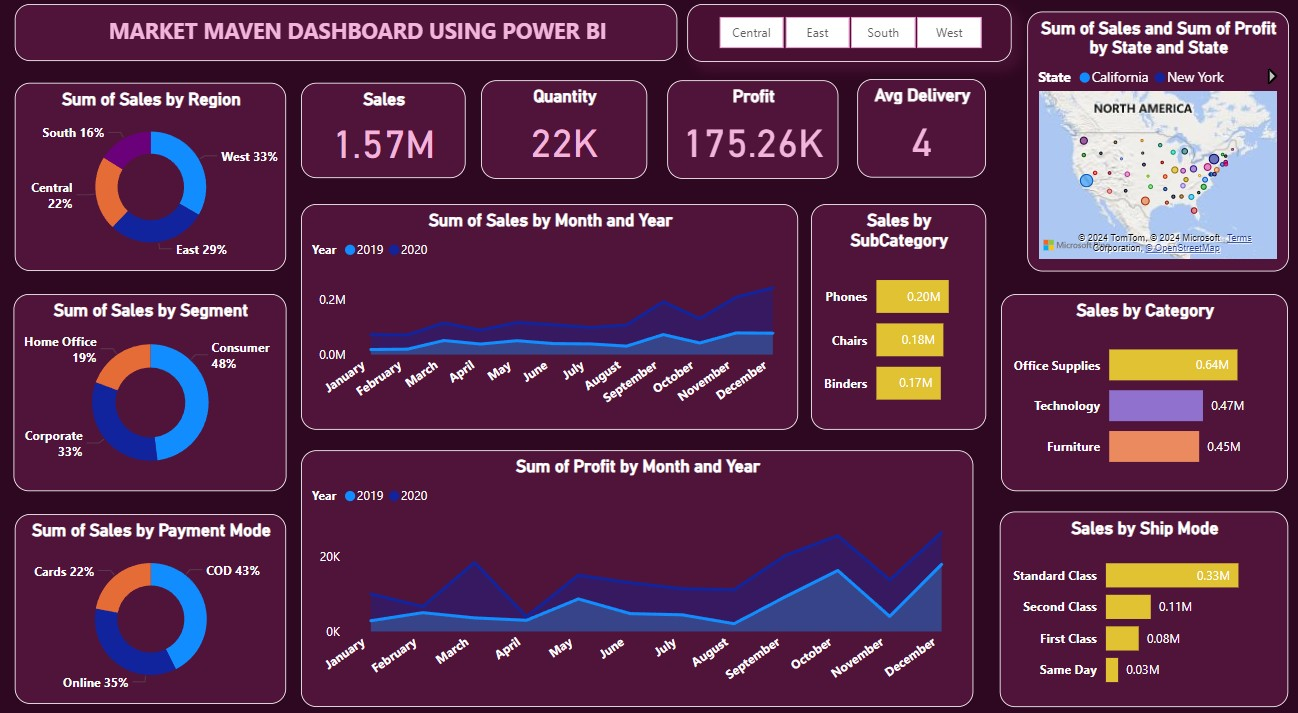

Layout of this report page (visuals, bound fields, positions):
{"tool":"powerbi","page":{"name":"Page 1","canvas":[1280,720],"ordinal":0},"visuals":[{"type":"clusteredBarChart","title":" Sales by Category","fields":{"Category":["SuperStore_Sales_Dataset.Category"],"Y":["Sum(SuperStore_Sales_Dataset.Sales)"]},"box":[986.7,295,281.7,193.3],"z":0},{"type":"clusteredBarChart","title":" Sales by SubCategory","fields":{"Category":["SuperStore_Sales_Dataset.Sub-Category"],"Y":["Sum(SuperStore_Sales_Dataset.Sales)"]},"box":[800,206.7,171.7,221.7],"z":1000},{"type":"clusteredBarChart","title":" Sales by Ship Mode","fields":{"Category":["SuperStore_Sales_Dataset.Ship Mode"],"Y":["Sum(SuperStore_Sales_Dataset.Sales)"]},"box":[985,508.3,283.3,191.7],"z":2000},{"type":"stackedAreaChart","fields":{"Category":["SuperStore_Sales_Dataset.Order Date.Variation.Date Hierarchy.Month","SuperStore_Sales_Dataset.Order Date.Variation.Date Hierarchy.Day"],"Y":["Sum(SuperStore_Sales_Dataset.Sales)"],"Series":["SuperStore_Sales_Dataset.Order Date.Variation.Date Hierarchy.Year"]},"box":[300,206.7,488.3,221.7],"z":3000},{"type":"stackedAreaChart","fields":{"Category":["SuperStore_Sales_Dataset.Order Date.Variation.Date Hierarchy.Month","SuperStore_Sales_Dataset.Order Date.Variation.Date Hierarchy.Day"],"Series":["SuperStore_Sales_Dataset.Order Date.Variation.Date Hierarchy.Year"],"Y":["Sum(SuperStore_Sales_Dataset.Profit)"]},"box":[300,448.3,660,251.7],"z":4000},{"type":"map","fields":{"Size":["Sum(SuperStore_Sales_Dataset.Sales)"],"Series":["SuperStore_Sales_Dataset.State"],"Category":["SuperStore_Sales_Dataset.State"]},"box":[1011.7,16.7,256.7,255],"z":5000},{"type":"donutChart","fields":{"Category":["SuperStore_Sales_Dataset.Segment"],"Y":["Sum(SuperStore_Sales_Dataset.Sales)"]},"box":[16.7,295,268.3,193.3],"z":6000},{"type":"donutChart","fields":{"Category":["SuperStore_Sales_Dataset.Payment Mode"],"Y":["Sum(SuperStore_Sales_Dataset.Sales)"]},"box":[18.3,510,266.7,186.7],"z":7000},{"type":"slicer","fields":{"Values":["SuperStore_Sales_Dataset.Region"]},"box":[678.3,10,318.3,56.7],"z":8000},{"type":"textbox","box":[18,10,650,56],"z":9000},{"type":"card","title":"Sales","fields":{"Values":["Sum(SuperStore_Sales_Dataset.Sales)"]},"box":[300,86.7,161.7,93.3],"z":10000},{"type":"card","title":"Quantity","fields":{"Values":["Sum(SuperStore_Sales_Dataset.Quantity)"]},"box":[476.7,85,163.3,96.7],"z":11000},{"type":"card","title":"Profit","fields":{"Values":["Sum(SuperStore_Sales_Dataset.Profit)"]},"box":[658.3,85,168.3,96.7],"z":12000},{"type":"card","title":"Avg Delivery","fields":{"Values":["Avg(SuperStore_Sales_Dataset.AvgDelivery)"]},"box":[845,83.3,126.7,96.7],"z":13000},{"type":"donutChart","fields":{"Category":["SuperStore_Sales_Dataset.Region","SuperStore_Sales_Dataset.Segment"],"Y":["Sum(SuperStore_Sales_Dataset.Sales)"]},"box":[18.3,86.7,266.7,185],"z":14000}]}

Visuals, with their boxes in screenshot pixels (x1, y1, x2, y2), scaled from the page's 1280x720 canvas onto the 1298x713 screenshot:
" Sales by Category" clusteredBarChart: [1001, 292, 1286, 484]
" Sales by SubCategory" clusteredBarChart: [811, 205, 985, 424]
" Sales by Ship Mode" clusteredBarChart: [999, 503, 1286, 693]
stackedAreaChart - SuperStore_Sales_Dataset.Order Date.Variation.Date Hierarchy.Month x SuperStore_Sales_Dataset.Order Date.Variation.Date Hierarchy.Day: [304, 205, 799, 424]
stackedAreaChart - SuperStore_Sales_Dataset.Order Date.Variation.Date Hierarchy.Month x SuperStore_Sales_Dataset.Order Date.Variation.Date Hierarchy.Day: [304, 444, 974, 693]
map - Sum(SuperStore_Sales_Dataset.Sales) x SuperStore_Sales_Dataset.State: [1026, 17, 1286, 269]
donutChart - SuperStore_Sales_Dataset.Segment x Sum(SuperStore_Sales_Dataset.Sales): [17, 292, 289, 484]
donutChart - SuperStore_Sales_Dataset.Payment Mode x Sum(SuperStore_Sales_Dataset.Sales): [19, 505, 289, 690]
slicer - SuperStore_Sales_Dataset.Region: [688, 10, 1011, 66]
textbox: [18, 10, 677, 65]
"Sales" card: [304, 86, 468, 178]
"Quantity" card: [483, 84, 649, 180]
"Profit" card: [668, 84, 838, 180]
"Avg Delivery" card: [857, 82, 985, 178]
donutChart - SuperStore_Sales_Dataset.Region x SuperStore_Sales_Dataset.Segment: [19, 86, 289, 269]
